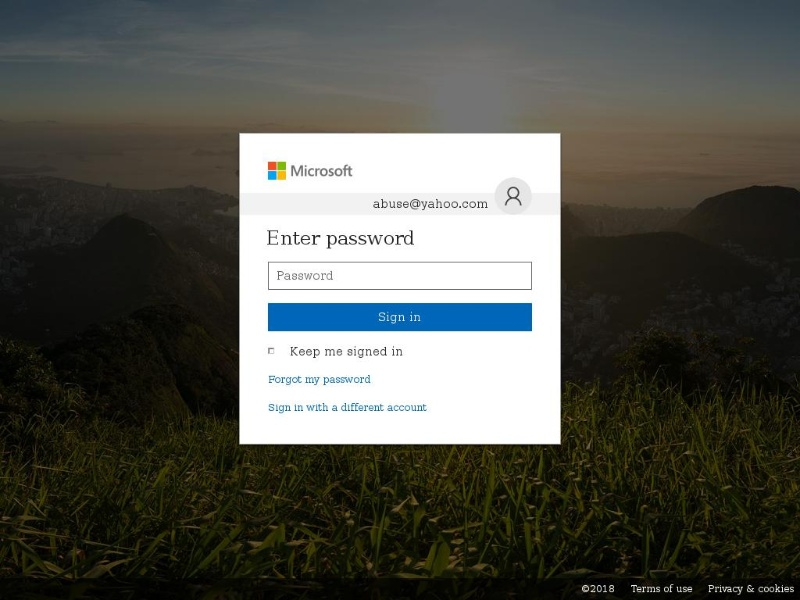msft: (257, 153, 392, 188)
